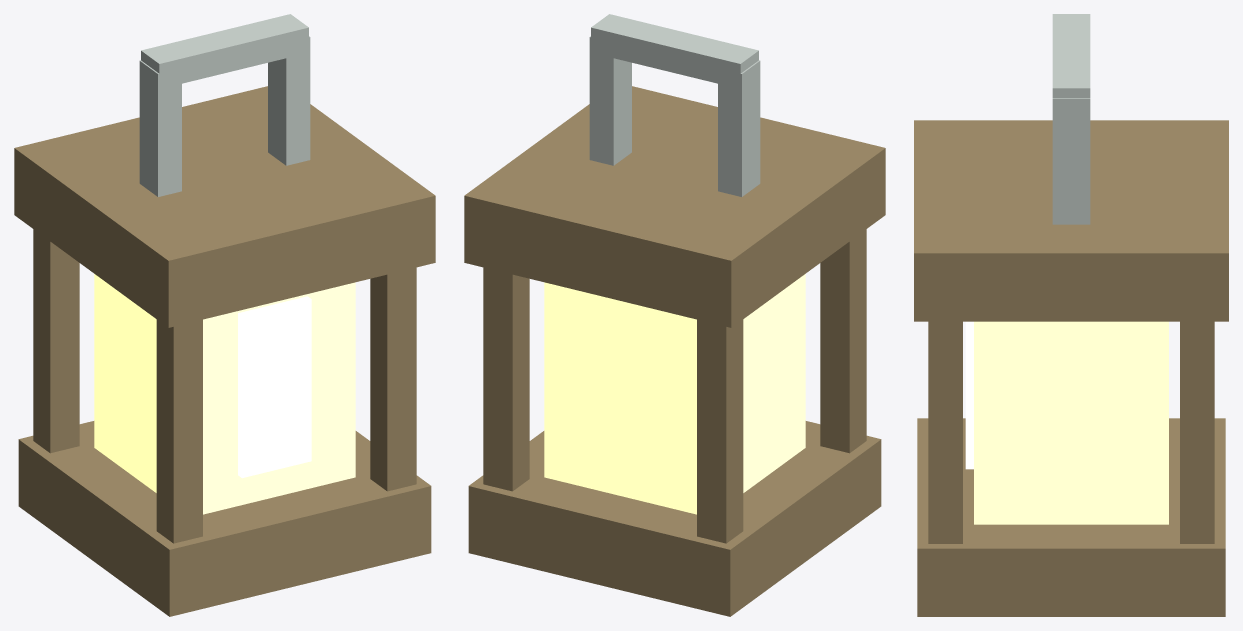
The model's file is lantern.fbx.
3 renders of one model, left to right at view 1: azimuth 30°, elevation 25°; view 2: azimuth 150°, elevation 25°; view 3: azimuth 270°, elevation 25°, orthographic. The views are drawn at different scales.
Parts seen in each view (by area): view 1: roof, base, light, core, frame, frame.002, frame.001, handle_top, handle, handle.001; view 2: roof, light, base, frame.001, frame.003, frame, handle_top, handle, handle.001; view 3: roof, light, base, frame.002, frame.003, handle.001, handle_top, core.
Part boxes in pixels (x1,y1,x2,y2): roof: (14, 86, 435, 327); base: (18, 421, 431, 616); light: (94, 274, 355, 514); core: (238, 296, 311, 478); frame: (156, 319, 202, 543); frame.002: (370, 267, 416, 491); frame.001: (33, 229, 79, 453); handle_top: (141, 14, 308, 88); handle: (139, 60, 181, 196); handle.001: (268, 36, 310, 165); roof: (464, 86, 885, 327); light: (544, 274, 805, 514); base: (468, 421, 881, 616); frame.001: (697, 319, 743, 543); frame.003: (483, 267, 529, 491); frame: (820, 229, 866, 453); handle_top: (591, 14, 758, 83); handle: (718, 60, 760, 196); handle.001: (589, 36, 631, 165); roof: (914, 120, 1228, 321); light: (974, 321, 1168, 524); base: (917, 418, 1225, 616); frame.002: (928, 321, 962, 543); frame.003: (1180, 321, 1214, 543); handle.001: (1052, 98, 1090, 224); handle_top: (1052, 14, 1090, 98); core: (965, 321, 973, 469).
Size of the model in its own units: 0.5 by 0.8775 by 0.5.
